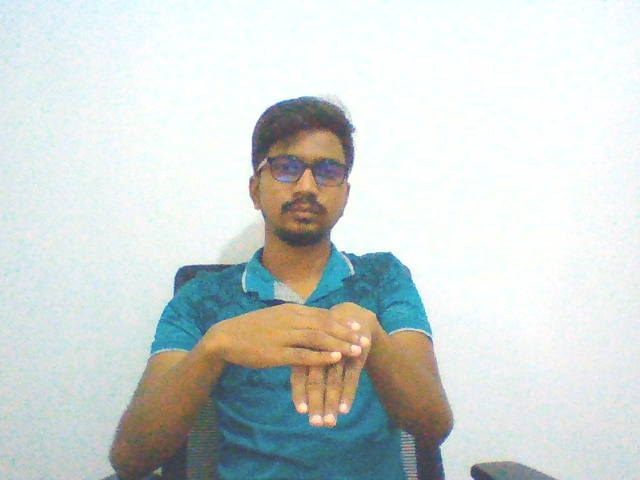pineapple: (203, 296, 379, 436)
